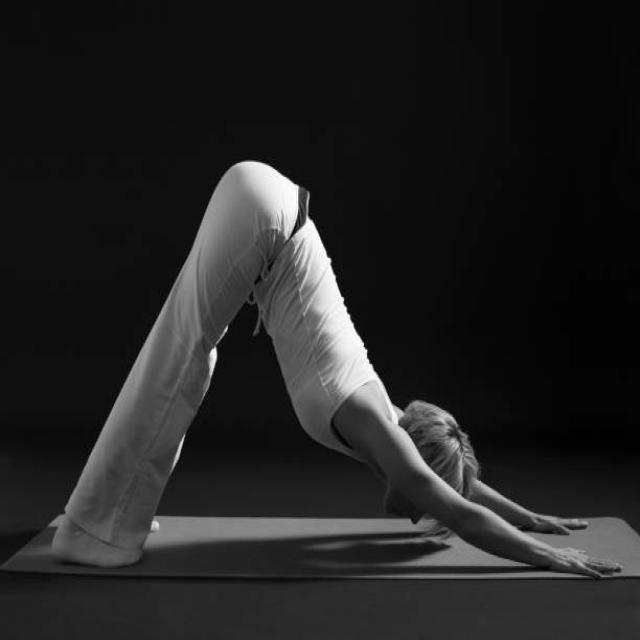Downward-Facing_Dog: (39, 153, 625, 592)
